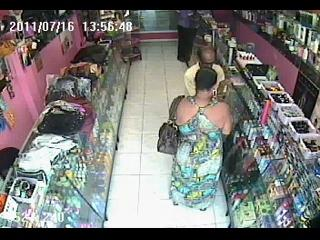Normal: (168, 67, 234, 212), (183, 46, 226, 98), (156, 95, 184, 155), (176, 10, 201, 68), (121, 46, 142, 64)
